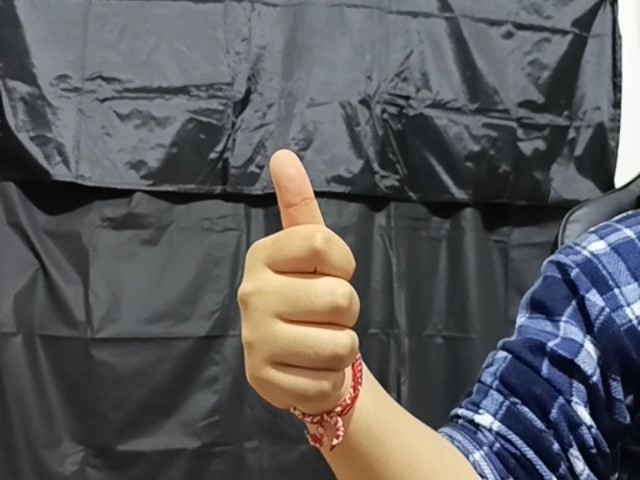A: (228, 145, 359, 409)
